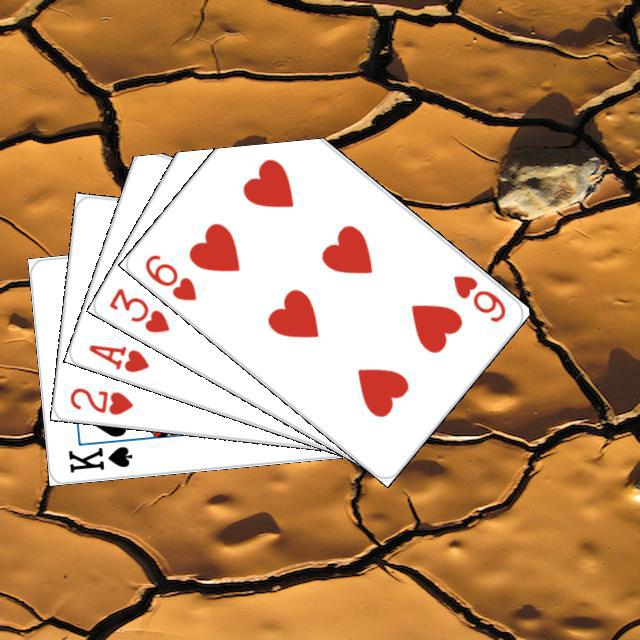2h: (64, 382, 135, 417)
3h: (104, 282, 172, 335)
6h: (447, 270, 508, 324), (139, 249, 199, 303)
Ah: (84, 339, 151, 375)
Ks: (63, 441, 134, 474)
